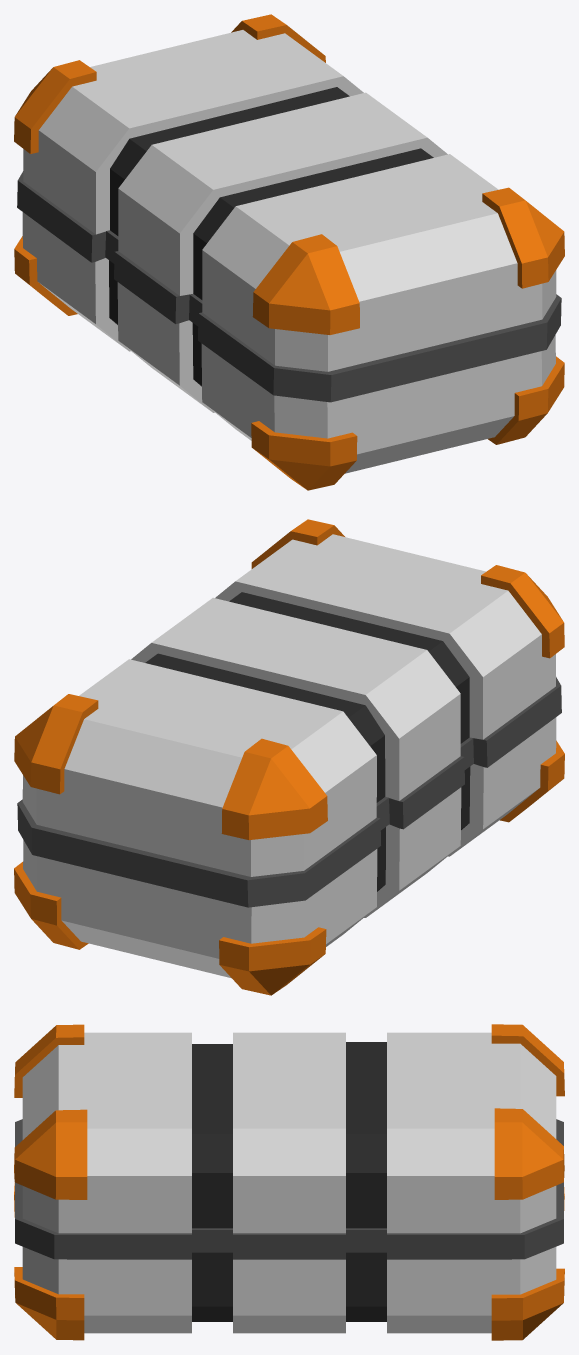
3 renders of one model, top to bottom at view 1: azimuth 30°, elevation 25°; view 2: azimuth 150°, elevation 25°; view 3: azimuth 270°, elevation 25°, orthographic. The views are drawn at different scales.
Visible parts, largest first — view 1: Cube.008; view 2: Cube.008; view 3: Cube.008.
Boxes of the visible parts, x1,y1,x2,y2 form: Cube.008: (14, 14, 564, 490); Cube.008: (14, 519, 564, 995); Cube.008: (14, 1024, 564, 1340).
Size of the model in its own units: 271 by 209 by 474.
